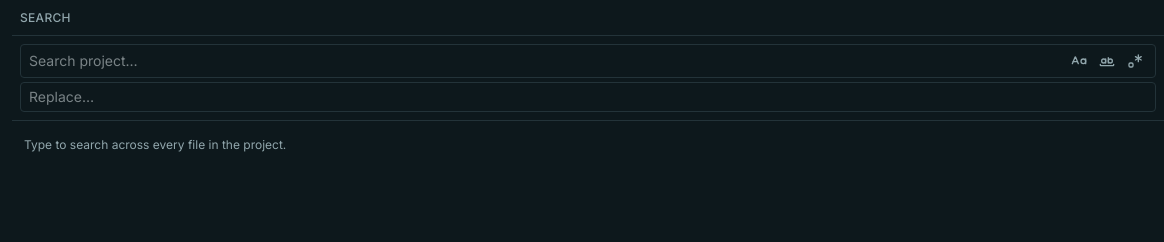
Test: SearchView › surfaces the capped affordance and skipped-file count
The image size is (1164, 242).
Type "foo" into the field named "Search query" at (546, 61), box [29,51,1063,71]
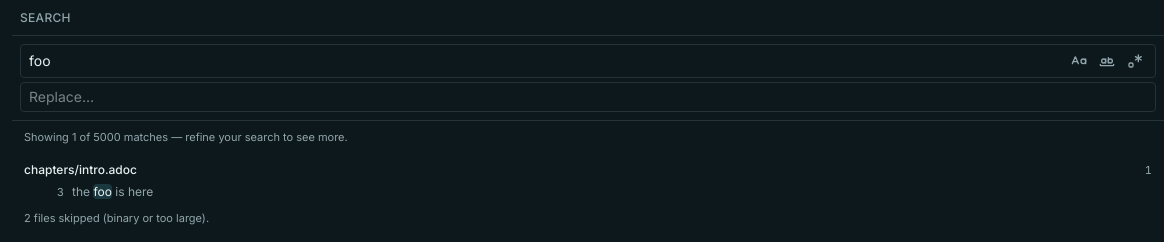
Expected: the text "Showing 1 of 5000 matches — refine your search to see more." is shown, [24,130,348,144]
Expected: the text "2 files skipped (binary or too large)." is shown, [24,211,209,225]
